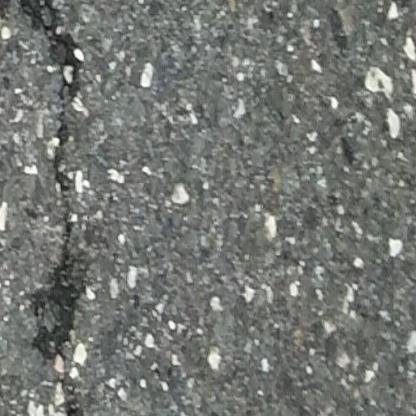Cracks: (0, 0, 114, 416)
